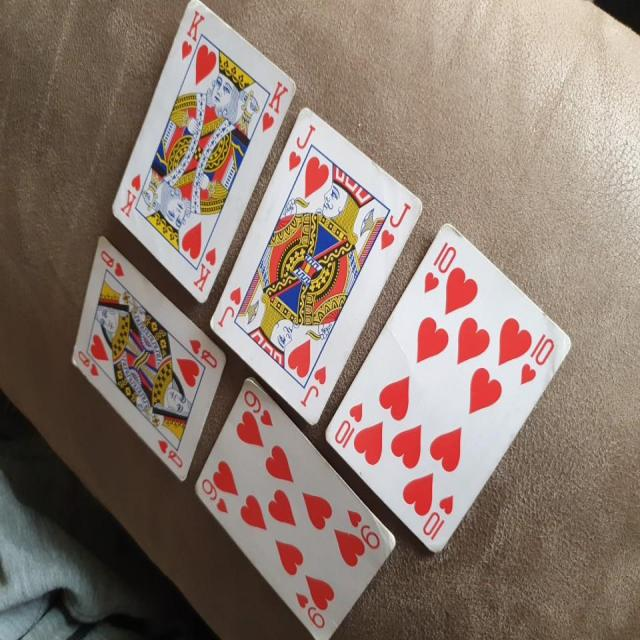10 Hearts: (322, 222, 570, 558)
9 Hearts: (191, 372, 398, 634)
J Hearts: (199, 100, 423, 427)
K Hearts: (101, 1, 298, 312)
Q Hearts: (61, 220, 228, 494)
